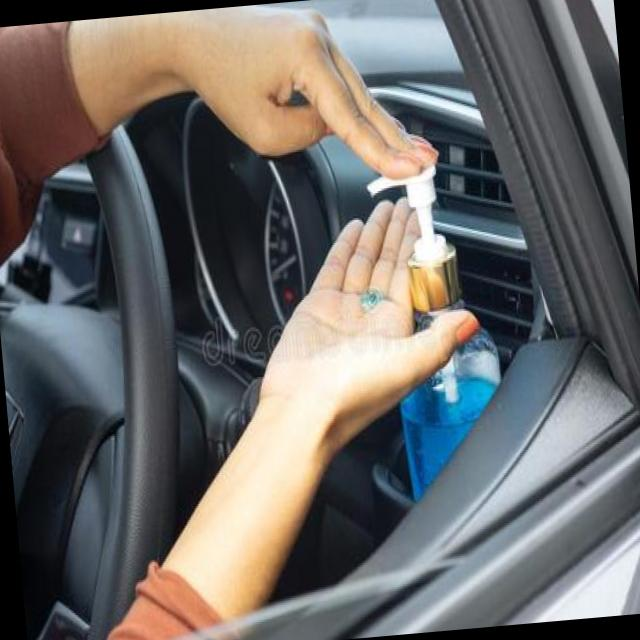sanitizer: (357, 154, 504, 438)
